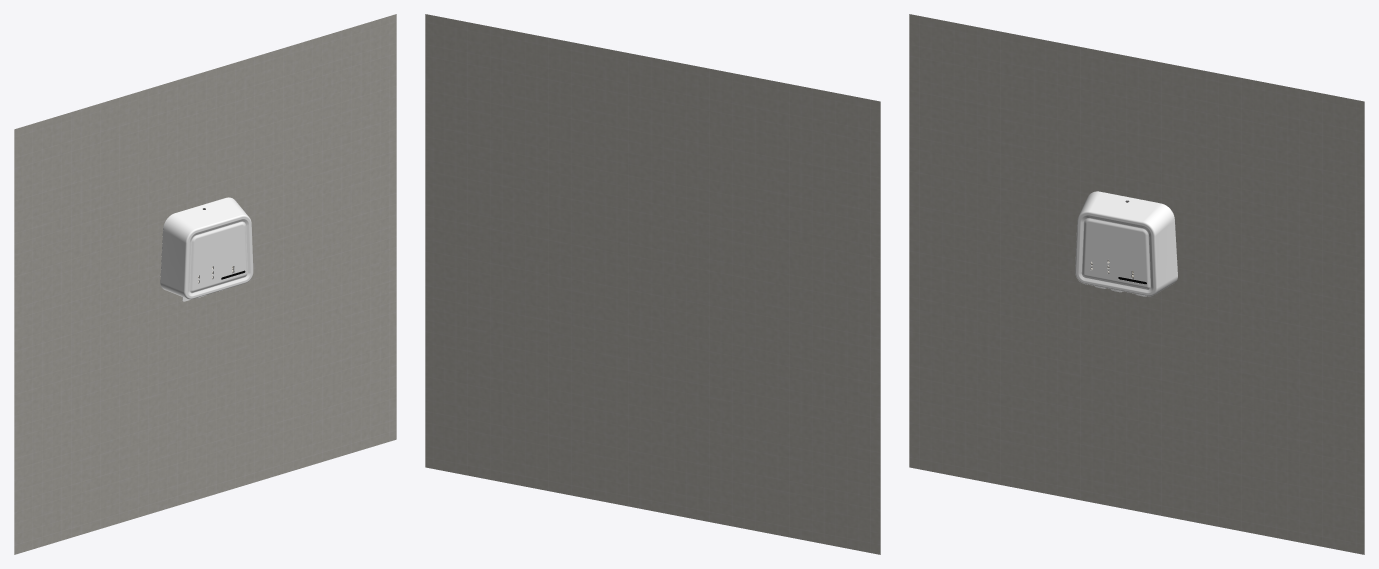
3 renders of one model, left to right at view 1: azimuth 30°, elevation 25°; view 2: azimuth 150°, elevation 25°; view 3: azimuth 330°, elevation 25°, orthographic. The views are drawn at different scales.
Parts seen in each view (by area): view 1: wall, Object_7; view 2: wall; view 3: wall, Object_7.
Part boxes in pixels (x1,y1,x2,y2): wall: (14, 14, 396, 554); Object_7: (160, 197, 253, 299); wall: (425, 14, 880, 554); wall: (909, 14, 1364, 554); Object_7: (1075, 191, 1177, 296).
Bounding box in the file's own units: 1.99 × 2 × 0.2565.
Materials: 11 (4 with a texture image).
